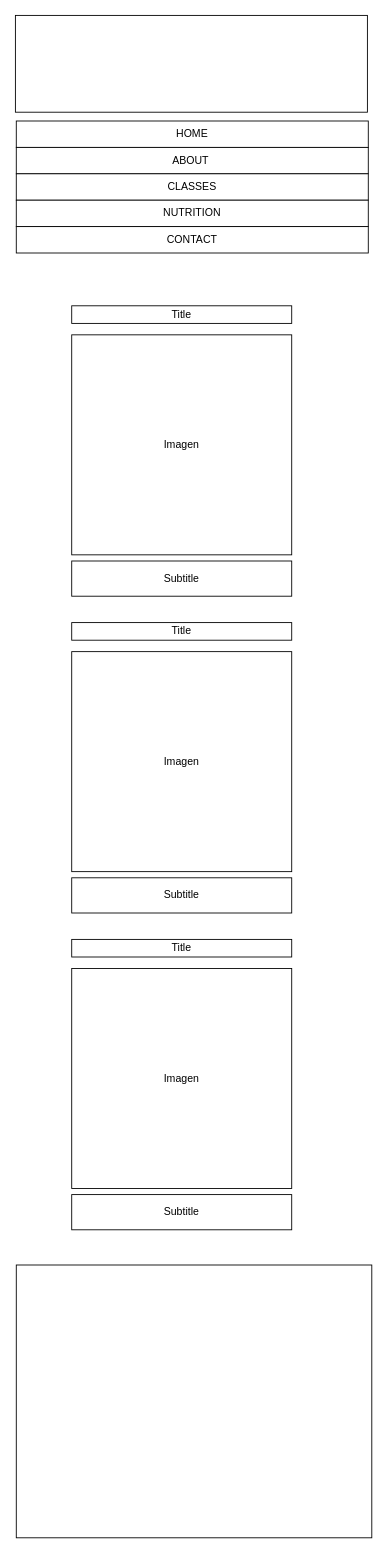
This 387x1553 diagram has some shape labels left out. Here are the shapes that lost their labels. From the top down, the centre of each, then its label:
At point (191, 63): "HEADER".
At point (193, 1401): "FOOTER".
